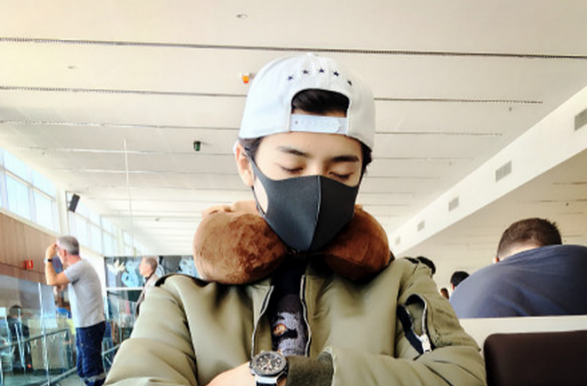face_mask: (256, 128, 361, 253)
